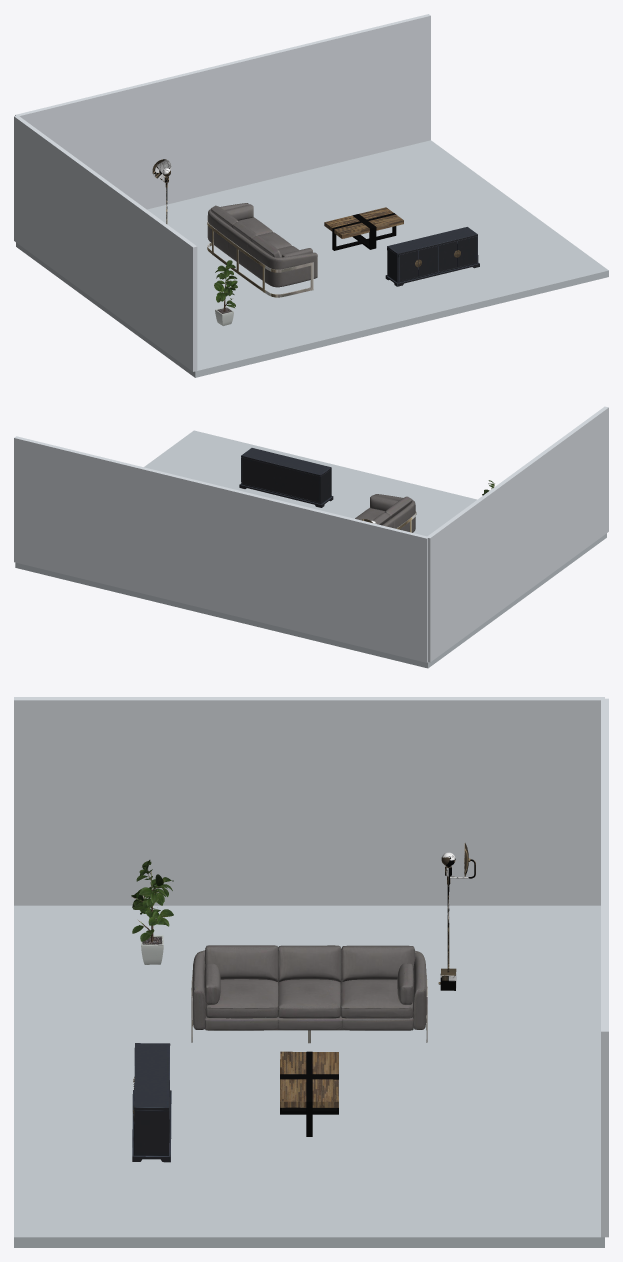
Rendered from stage2.glb.
3 views of the same model, one above another, from view 1: azimuth 30°, elevation 25°; view 2: azimuth 150°, elevation 25°; view 3: azimuth 270°, elevation 25° (orthographic). The views are drawn at different scales.
Visible parts, largest first — view 1: Floor, wall_back, wall_left, raw_model, raw_model.002, raw_model.001, raw_model.004; view 2: wall_back, wall_left, Floor, raw_model.002, raw_model; view 3: Floor, wall_left, raw_model, raw_model.002, wall_back, raw_model.001, raw_model.004, raw_model.003.
Boxes of the visible parts, x1=… form: Floor: x1=16, y1=140, x2=608, y2=377; wall_back: x1=15, y1=14, x2=430, y2=209; wall_left: x1=14, y1=116, x2=197, y2=371; raw_model: x1=207, y1=203, x2=317, y2=297; raw_model.002: x1=385, y1=227, x2=479, y2=286; raw_model.001: x1=324, y1=207, x2=403, y2=250; raw_model.004: x1=214, y1=260, x2=237, y2=325; wall_back: x1=14, y1=436, x2=428, y2=662; wall_left: x1=427, y1=406, x2=608, y2=662; Floor: x1=15, y1=430, x2=606, y2=668; raw_model.002: x1=239, y1=448, x2=333, y2=507; raw_model: x1=355, y1=494, x2=416, y2=532; Floor: x1=14, y1=905, x2=604, y2=1247; wall_left: x1=14, y1=697, x2=604, y2=905; raw_model: x1=191, y1=945, x2=427, y2=1043; raw_model.002: x1=132, y1=1043, x2=171, y2=1162; wall_back: x1=601, y1=698, x2=608, y2=1237; raw_model.001: x1=280, y1=1051, x2=338, y2=1136; raw_model.004: x1=131, y1=860, x2=173, y2=964; raw_model.003: x1=438, y1=843, x2=475, y2=990.
Size of the model in its own units: 8.04 by 2.42 by 6.04.
Materials: 7 (5 with a texture image).
